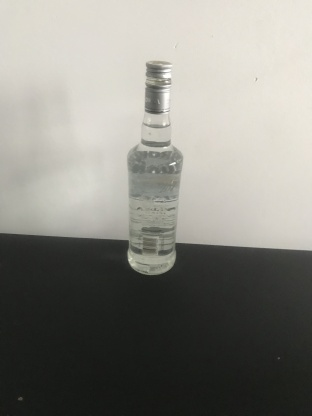nakretka: (143, 58, 173, 114)
